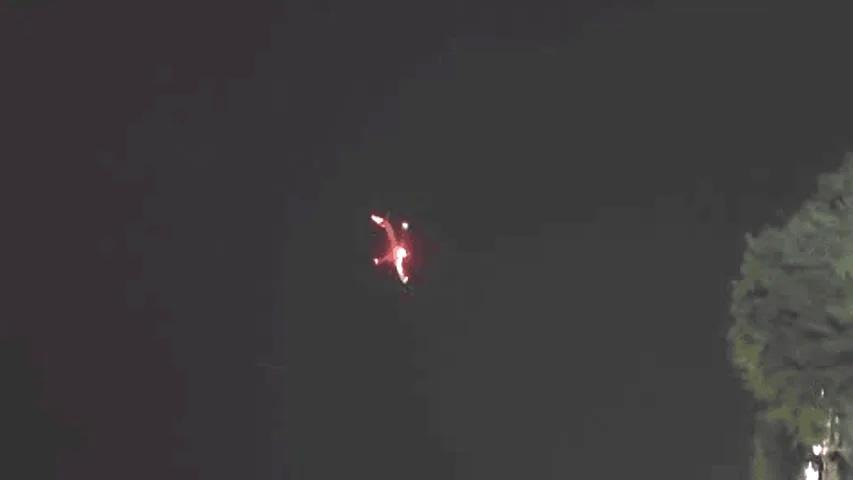Plane: (307, 178, 475, 314)
